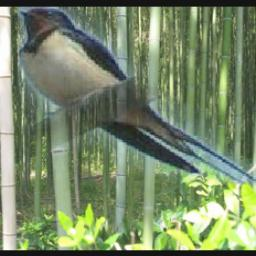Swallow: (18, 7, 256, 185)
